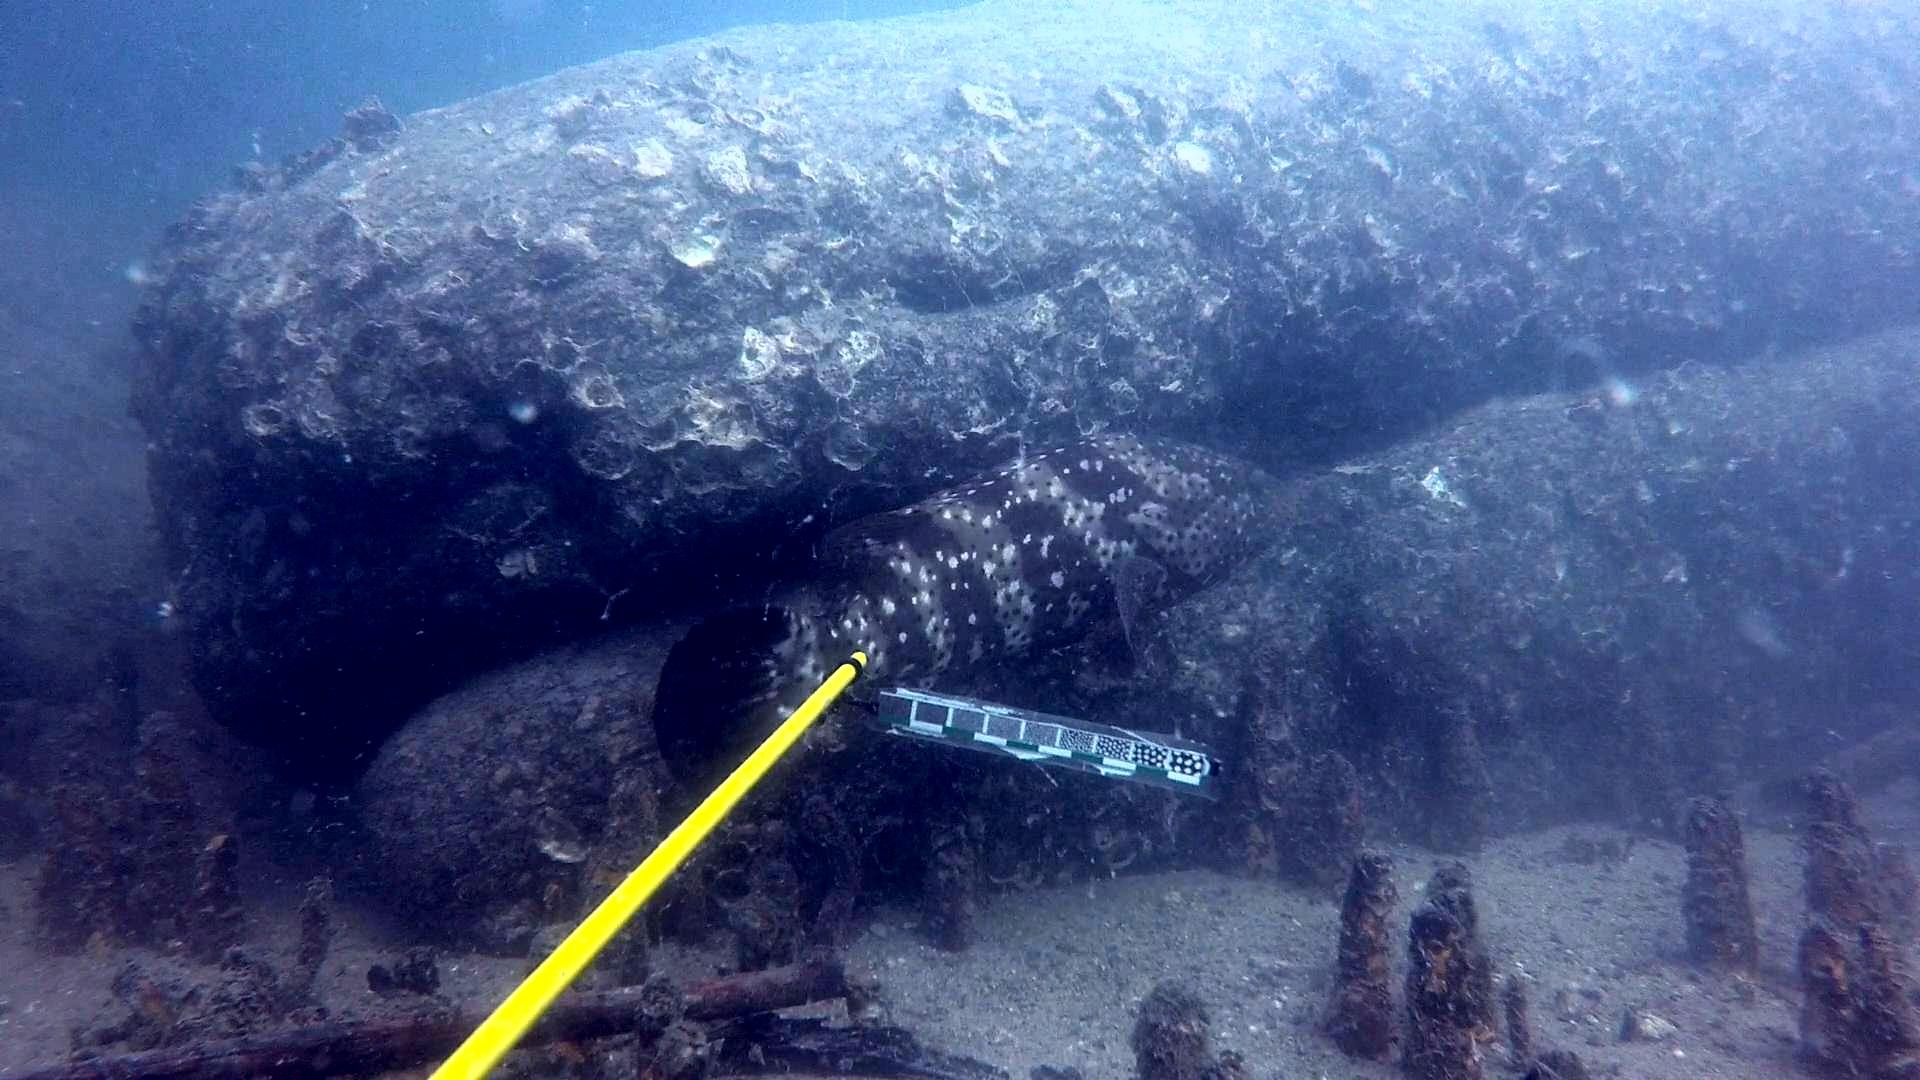epinephelus: (641, 410, 1308, 798)
